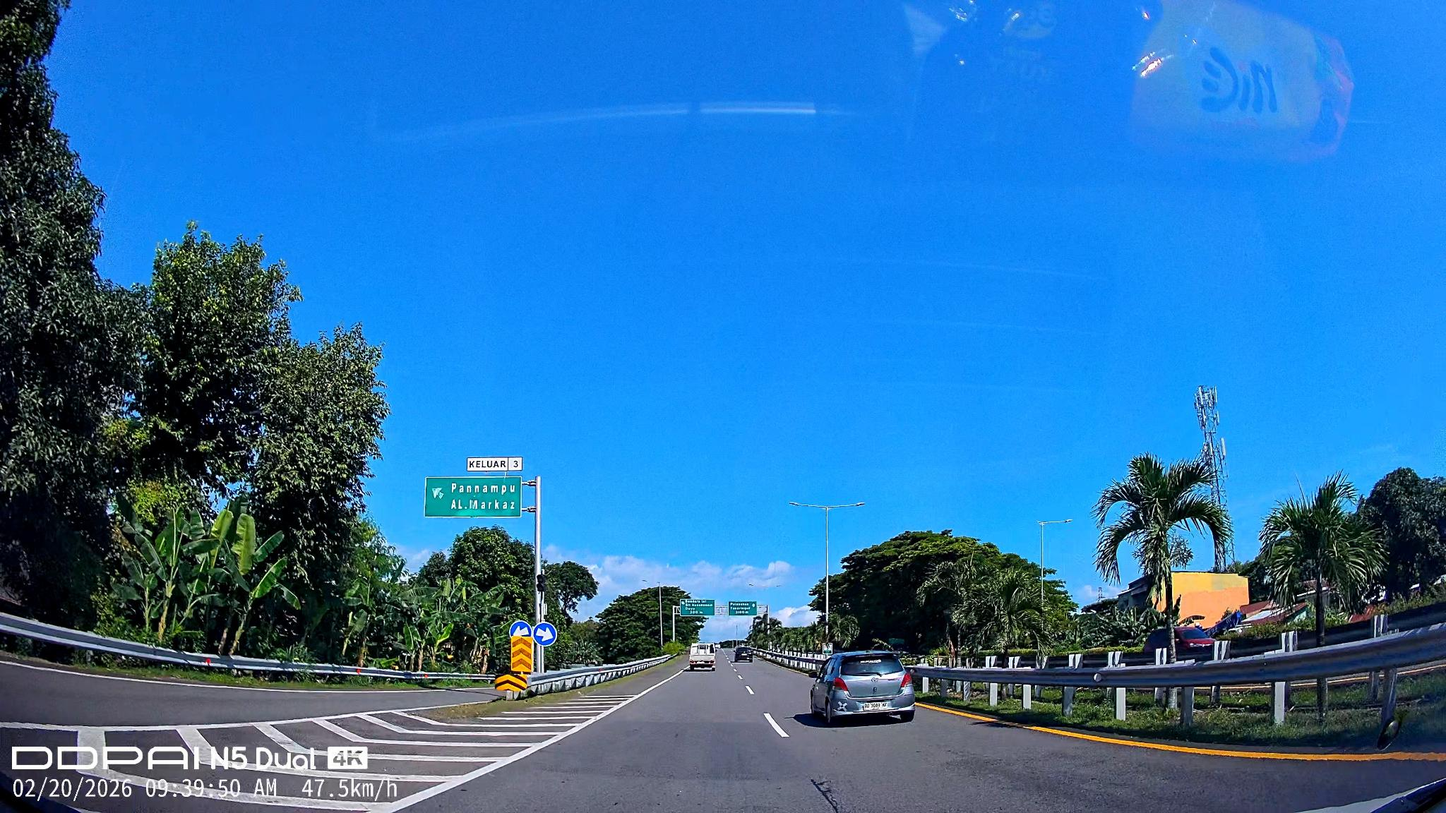rambu_teks: (424, 476, 522, 518)
